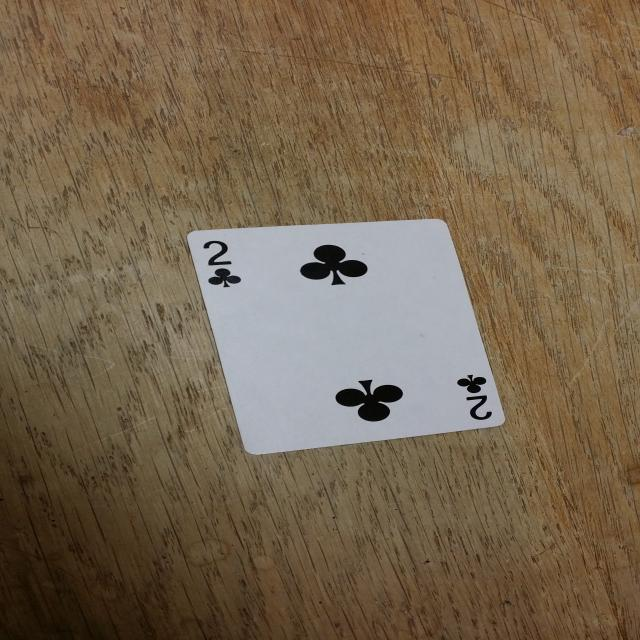2c: (188, 238, 259, 298), (440, 372, 506, 428)
